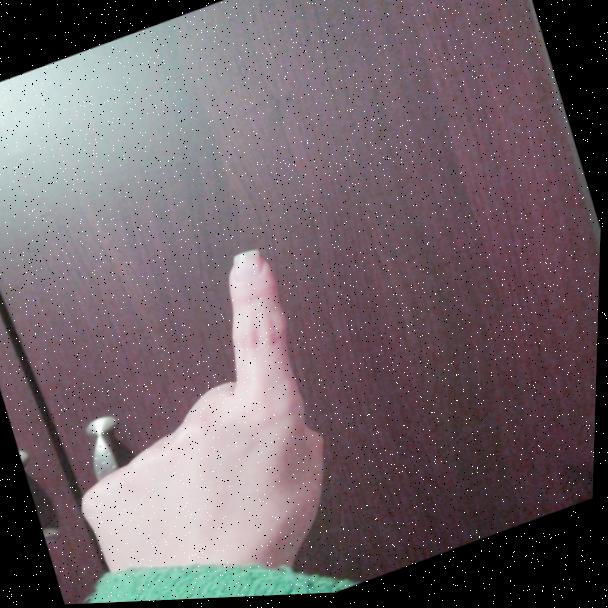one: (29, 225, 397, 606)
